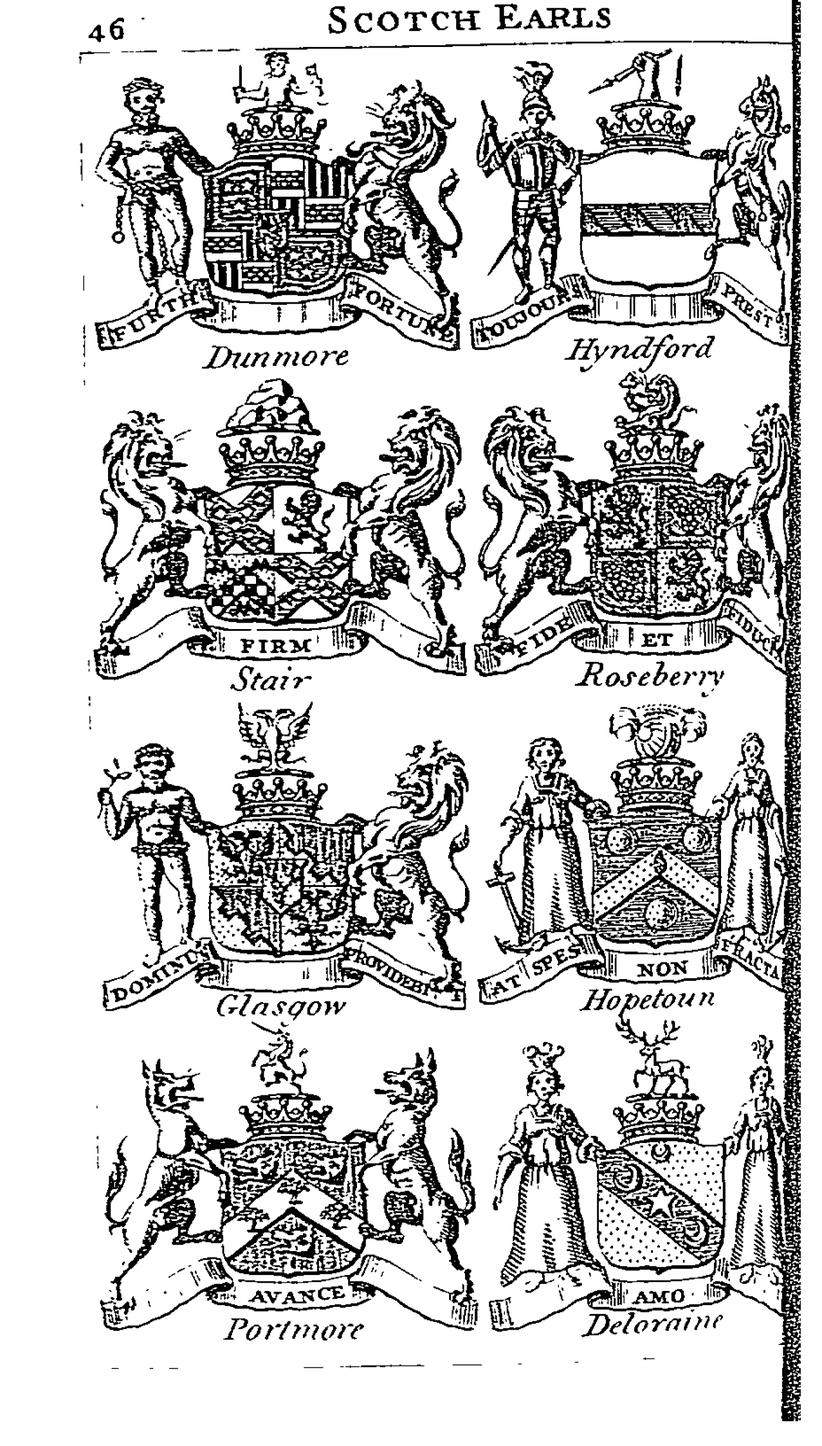coat_of_arms: (93, 1023, 486, 1353), (99, 692, 475, 1036), (88, 56, 464, 372), (92, 373, 468, 689), (478, 689, 822, 1021), (470, 56, 808, 371), (481, 374, 805, 690), (482, 1019, 786, 1349)
